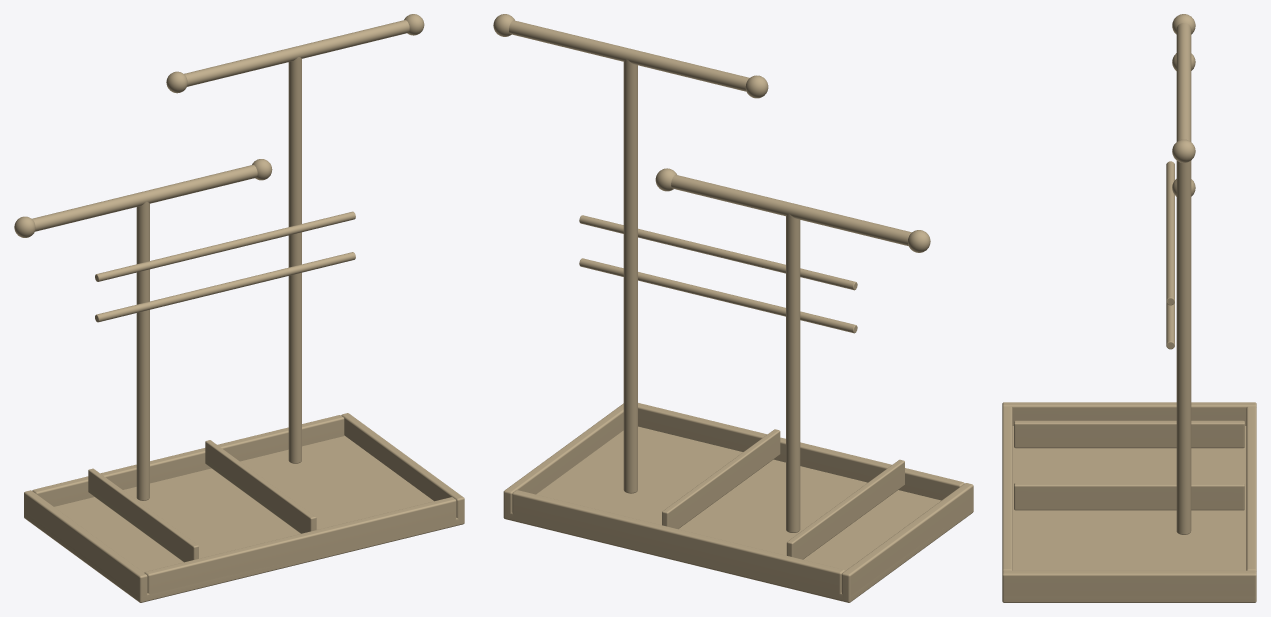
Rendered from jewel-stand.glb.
3 renders of one model, left to right at view 1: azimuth 30°, elevation 25°; view 2: azimuth 150°, elevation 25°; view 3: azimuth 270°, elevation 25°, orthographic. The views are drawn at different scales.
Visible parts, largest first — view 1: Divided jewelry catch tray floor, Divided jewelry catch tray side, Jewelry display upright.001, Divided jewelry catch tray side.001, Divided jewelry catch tray end, Jewelry display upright, Horizontal jewelry hanging arm, Horizontal jewelry hanging arm.001, Tray small-item divider.001, Tray small-item divider, Divided jewelry catch tray end.001, Earring cross rail.001 (+1 smaller); view 2: Divided jewelry catch tray floor, Divided jewelry catch tray side.001, Jewelry display upright.001, Divided jewelry catch tray side, Jewelry display upright, Divided jewelry catch tray end, Horizontal jewelry hanging arm.001, Horizontal jewelry hanging arm, Tray small-item divider.001, Tray small-item divider, Divided jewelry catch tray end.001, Earring cross rail.001 (+1 smaller); view 3: Divided jewelry catch tray floor, Divided jewelry catch tray end.001, Tray small-item divider, Tray small-item divider.001, Jewelry display upright.001, Divided jewelry catch tray end, Horizontal jewelry hanging arm.001, Divided jewelry catch tray side, Divided jewelry catch tray side.001, Earring cross rail.001, Jewelry-arm rounded tip.003, Earring cross rail.
Boxes of the visible parts, left/top/right/bottom form: Divided jewelry catch tray floor: left=24, top=435, right=464, bottom=602; Divided jewelry catch tray side: left=144, top=497, right=456, bottom=594; Jewelry display upright.001: left=288, top=57, right=301, bottom=463; Divided jewelry catch tray side.001: left=32, top=415, right=344, bottom=506; Divided jewelry catch tray end: left=24, top=490, right=147, bottom=602; Jewelry display upright: left=136, top=202, right=149, bottom=500; Horizontal jewelry hanging arm: left=32, top=165, right=257, bottom=231; Horizontal jewelry hanging arm.001: left=184, top=20, right=409, bottom=86; Tray small-item divider.001: left=205, top=440, right=316, bottom=533; Tray small-item divider: left=88, top=468, right=198, bottom=562; Divided jewelry catch tray end.001: left=341, top=413, right=464, bottom=524; Earring cross rail.001: left=95, top=211, right=355, bottom=281; Divided jewelry catch tray floor: left=503, top=426, right=971, bottom=602; Divided jewelry catch tray side.001: left=512, top=490, right=844, bottom=598; Jewelry display upright.001: left=623, top=59, right=637, bottom=493; Divided jewelry catch tray side: left=638, top=403, right=964, bottom=500; Jewelry display upright: left=786, top=214, right=800, bottom=532; Divided jewelry catch tray end: left=841, top=483, right=973, bottom=602; Horizontal jewelry hanging arm.001: left=509, top=20, right=749, bottom=91; Horizontal jewelry hanging arm: left=671, top=175, right=911, bottom=245; Tray small-item divider.001: left=662, top=429, right=780, bottom=528; Tray small-item divider: left=786, top=459, right=904, bottom=559; Divided jewelry catch tray end.001: left=503, top=403, right=623, bottom=520; Earring cross rail.001: left=579, top=215, right=857, bottom=290; Divided jewelry catch tray floor: left=1002, top=426, right=1256, bottom=601; Divided jewelry catch tray end.001: left=1002, top=570, right=1256, bottom=602; Tray small-item divider: left=1014, top=420, right=1244, bottom=448; Tray small-item divider.001: left=1014, top=483, right=1244, bottom=510; Jewelry display upright.001: left=1176, top=161, right=1191, bottom=534; Divided jewelry catch tray end: left=1002, top=402, right=1256, bottom=425; Horizontal jewelry hanging arm.001: left=1176, top=23, right=1191, bottom=141; Divided jewelry catch tray side: left=1002, top=406, right=1012, bottom=571; Divided jewelry catch tray side.001: left=1246, top=406, right=1256, bottom=571; Earring cross rail.001: left=1166, top=161, right=1174, bottom=305; Jewelry-arm rounded tip.003: left=1172, top=139, right=1195, bottom=162; Earring cross rail: left=1166, top=303, right=1174, bottom=349.
Size of the model in its own units: 0.9667 by 1 by 0.4806.
